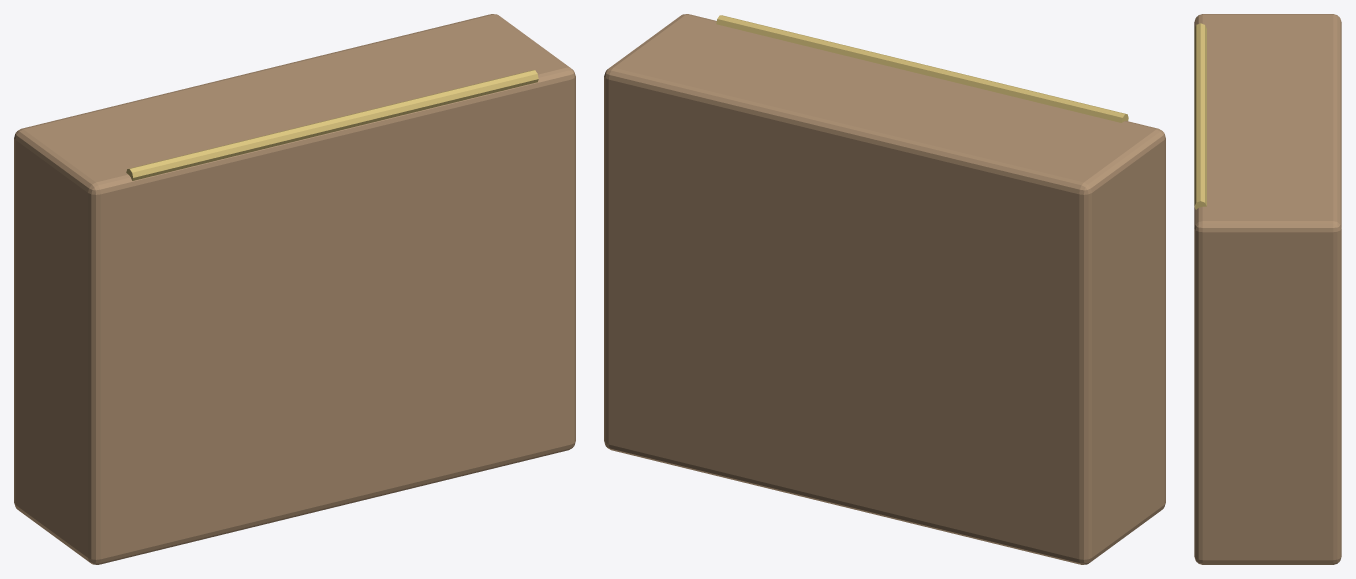
The model's file is insect-case.glb.
3 views of the same model, side by side, from view 1: azimuth 30°, elevation 25°; view 2: azimuth 150°, elevation 25°; view 3: azimuth 270°, elevation 25° (orthographic). The views are drawn at different scales.
Visible parts, largest first — view 1: box, handle; view 2: box, handle; view 3: box, handle.
Part boxes in pixels (<box>): box: <box>14,14,575,564</box>; handle: <box>126,70,538,180</box>; box: <box>604,14,1165,564</box>; handle: <box>716,15,1128,122</box>; box: <box>1194,14,1341,564</box>; handle: <box>1194,23,1206,209</box>.
Size of the model in its own units: 2.4 by 1.83 by 0.7.
